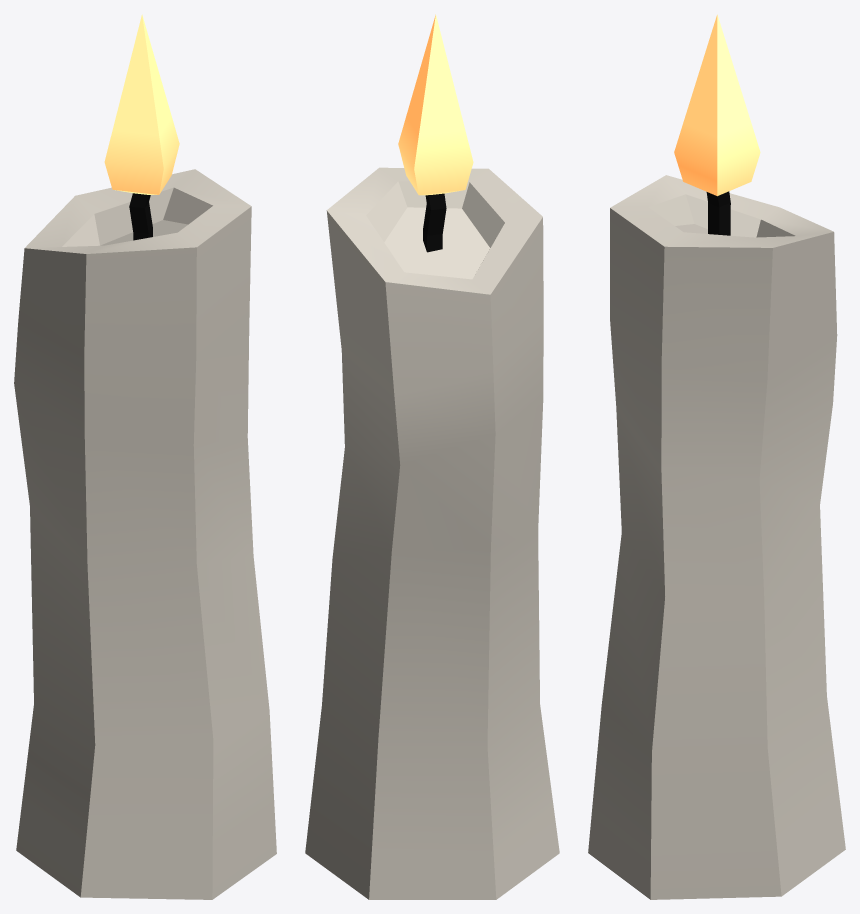
Rendered from candle.glb.
3 renders of one model, left to right at view 1: azimuth 30°, elevation 25°; view 2: azimuth 150°, elevation 25°; view 3: azimuth 270°, elevation 25°, orthographic.
Visible parts, largest first — view 1: Cylinder, Sphere, Cylinder.001; view 2: Cylinder, Sphere, Cylinder.001; view 3: Cylinder, Sphere, Cylinder.001.
Part boxes in pixels (left/top/right/bottom): Cylinder: left=14, top=169, right=276, bottom=899; Sphere: left=104, top=14, right=179, bottom=194; Cylinder.001: left=129, top=193, right=152, bottom=240; Cylinder: left=305, top=167, right=559, bottom=899; Sphere: left=398, top=14, right=473, bottom=195; Cylinder.001: left=423, top=193, right=446, bottom=252; Cylinder: left=588, top=175, right=845, bottom=899; Sphere: left=674, top=14, right=760, bottom=196; Cylinder.001: left=706, top=191, right=730, bottom=235.
Bounding box in the file's own units: 0.038 × 0.1563 × 0.0436.
